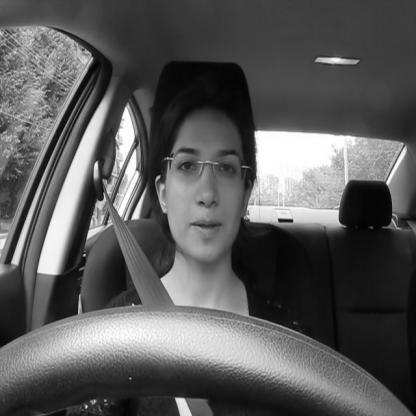seatbelt: (86, 56, 259, 416)
